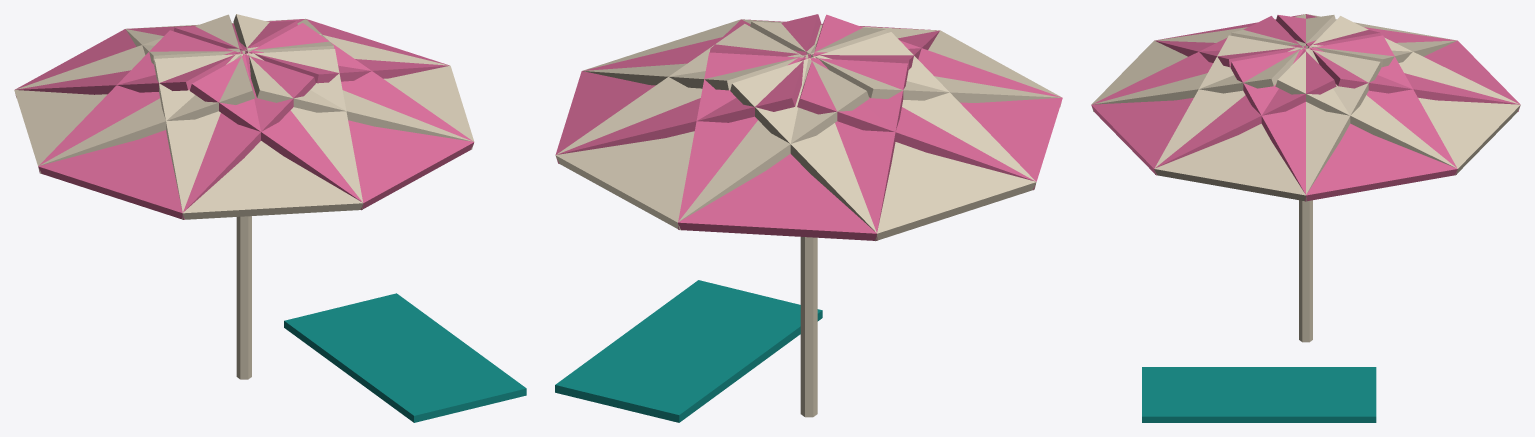
Rendered from umbrella.glb.
3 renders of one model, left to right at view 1: azimuth 30°, elevation 25°; view 2: azimuth 150°, elevation 25°; view 3: azimuth 270°, elevation 25°, orthographic. The views are drawn at different scales.
Visible parts, largest first — view 1: umbrella; view 2: umbrella; view 3: umbrella.
Part boxes in pixels (x1,y1,x2,y2): umbrella: (14,14,526,422); umbrella: (555,14,1062,422); umbrella: (1091,14,1520,422).
Size of the model in its own units: 3.66 by 2.75 by 3.66.
